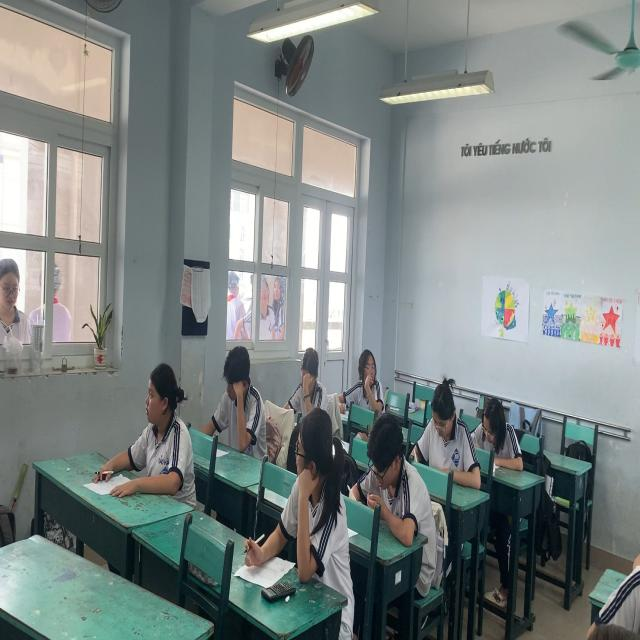cheating: (277, 416, 347, 599), (346, 340, 392, 422)
not_cheating: (126, 361, 190, 499), (363, 417, 429, 544), (412, 374, 478, 489), (211, 337, 264, 457), (472, 374, 521, 475), (291, 337, 332, 423)
